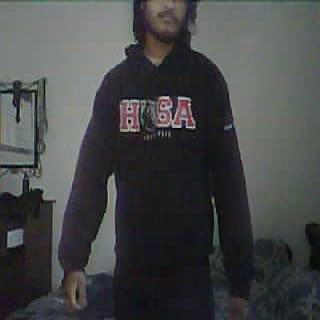HOSA Hoodie: (91, 48, 241, 258)
Navy Sweatpants: (115, 263, 215, 320)
